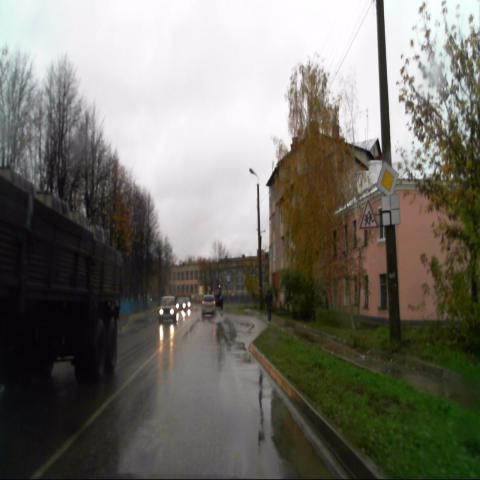1_23: (360, 199, 378, 231)
2_1: (376, 161, 398, 194)
8_13: (382, 194, 400, 226)
